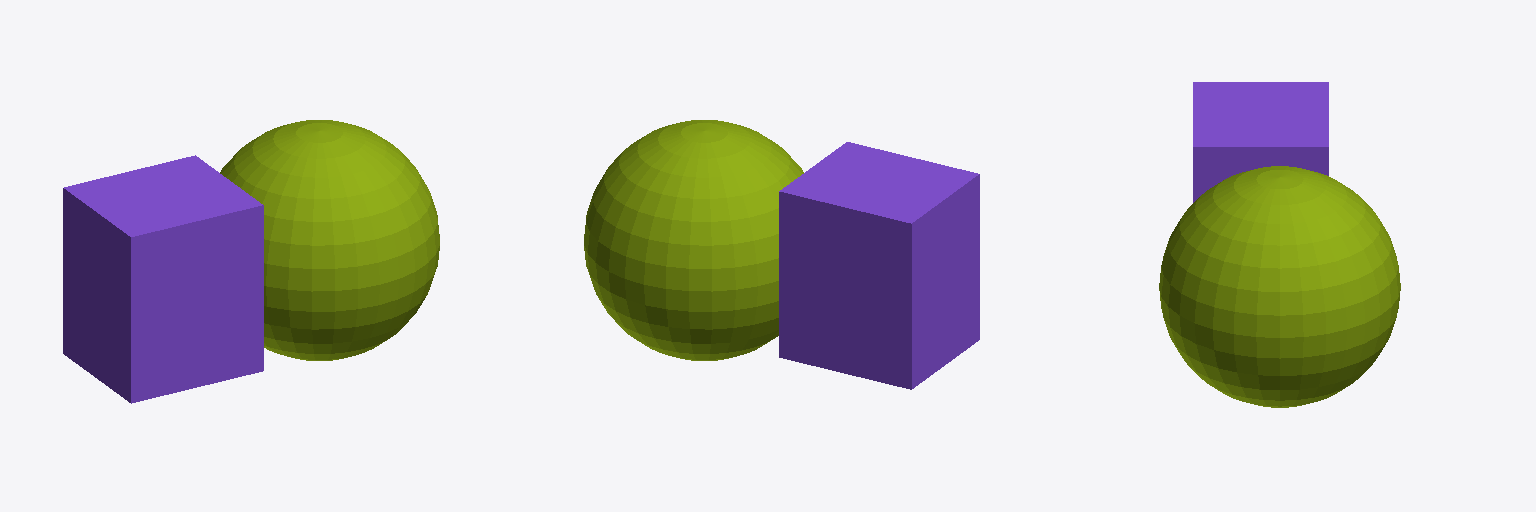
Rendered from SAC.obj.
3 views of the same model, side by side, from view 1: azimuth 30°, elevation 25°; view 2: azimuth 150°, elevation 25°; view 3: azimuth 270°, elevation 25° (orthographic).
Visible parts, largest first — view 1: Box001, Sphere001; view 2: Box001, Sphere001; view 3: Sphere001, Box001.
Part boxes in pixels (x1,y1,x2,y2): Box001: (63, 155, 263, 403); Sphere001: (220, 120, 439, 360); Box001: (779, 142, 979, 389); Sphere001: (584, 120, 803, 360); Sphere001: (1159, 166, 1400, 407); Box001: (1193, 82, 1328, 202).
Bounding box in the file's own units: 267 × 166 × 166.